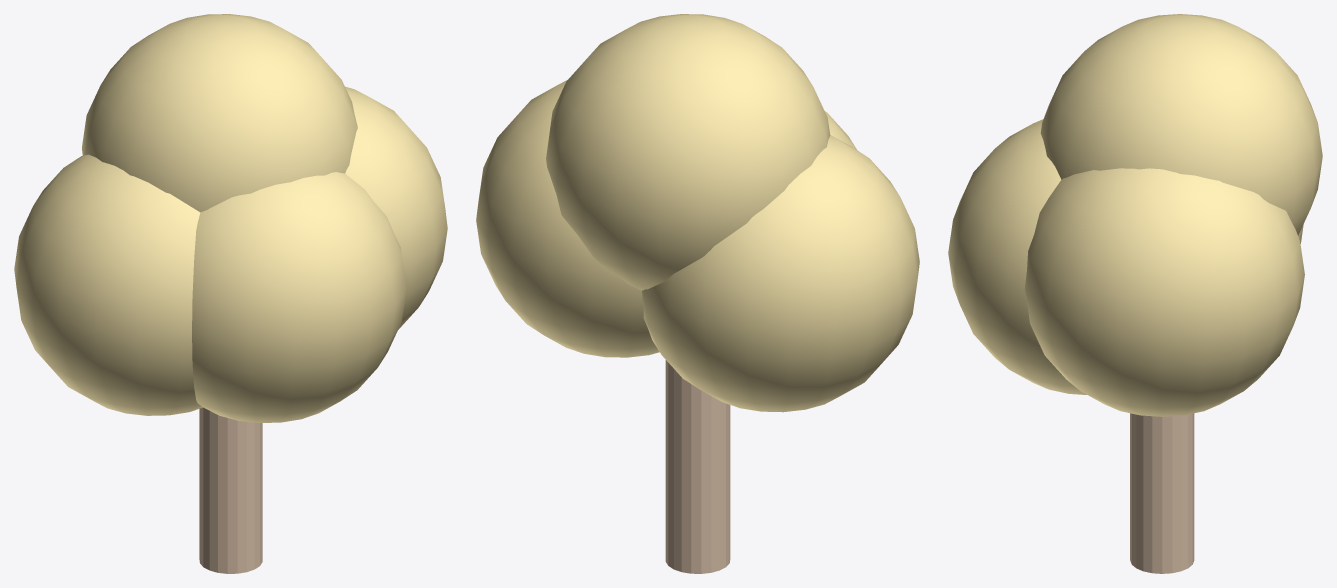
File: tree-gold.glb
3 views of the same model, side by side, from view 1: azimuth 30°, elevation 25°; view 2: azimuth 150°, elevation 25°; view 3: azimuth 270°, elevation 25° (orthographic). The views are drawn at different scales.
Parts seen in each view (by area): view 1: canopy3, canopy2, canopy0, canopy1, trunk; view 2: canopy2, canopy0, canopy1, trunk; view 3: canopy1, canopy2, canopy3, trunk.
Part boxes in pixels (left/top/right/bottom): canopy3: left=192, top=172, right=406, bottom=422; canopy2: left=82, top=14, right=357, bottom=212; canopy0: left=14, top=154, right=202, bottom=415; canopy1: left=345, top=86, right=447, bottom=329; trunk: left=199, top=407, right=262, bottom=573; canopy2: left=546, top=14, right=830, bottom=290; canopy0: left=642, top=135, right=919, bottom=412; canopy1: left=476, top=80, right=659, bottom=357; trunk: left=665, top=360, right=730, bottom=573; canopy1: left=1024, top=168, right=1304, bottom=416; canopy2: left=1040, top=14, right=1322, bottom=235; canopy3: left=948, top=119, right=1086, bottom=394; trunk: left=1130, top=413, right=1194, bottom=573.
Size of the model in its own units: 1.3 by 1.65 by 1.05.
